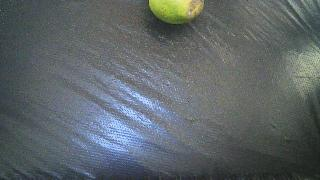DESECHO: (148, 0, 204, 24)
